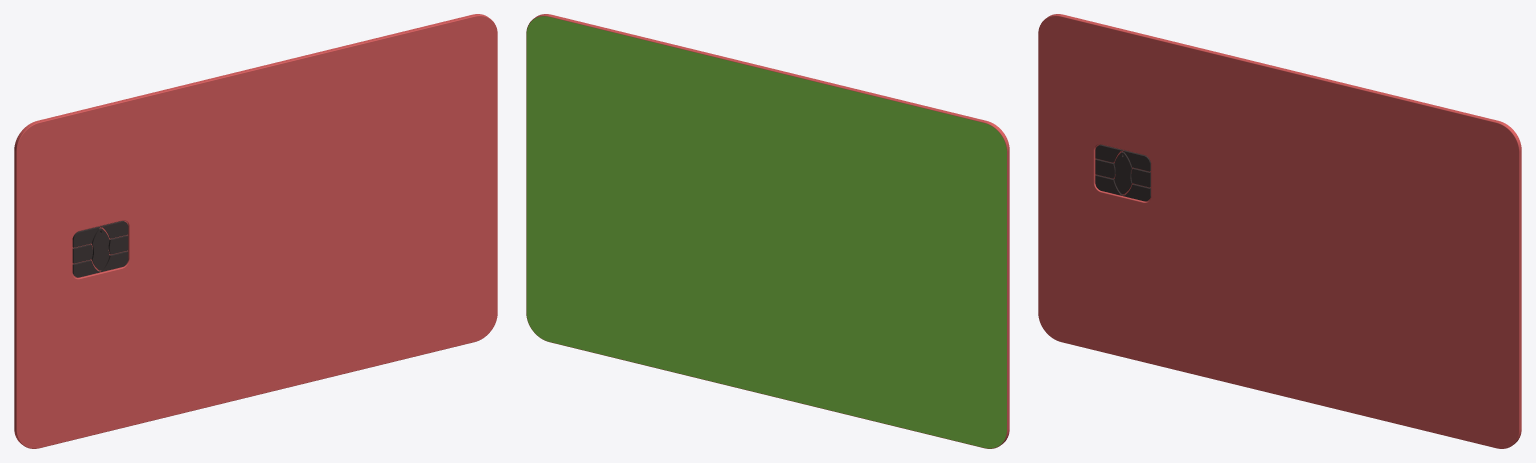
Rendered from card_chip1.glb.
The picture shows the model from 3 angles, left to right: view 1: azimuth 30°, elevation 25°; view 2: azimuth 150°, elevation 25°; view 3: azimuth 330°, elevation 25°; orthographic projection.
Visible parts, largest first — view 1: card_chip_extrude_1, Extruded.002; view 2: card_chip_extrude_1; view 3: card_chip_extrude_1, Extruded.002.
Part boxes in pixels (x1,y1,x2,y2): card_chip_extrude_1: [14, 14, 497, 448]; Extruded.002: [72, 221, 128, 277]; card_chip_extrude_1: [526, 14, 1009, 448]; card_chip_extrude_1: [1038, 14, 1521, 448]; Extruded.002: [1095, 144, 1150, 201].
Size of the model in its own units: 8.5 by 5.5 by 0.0761.
